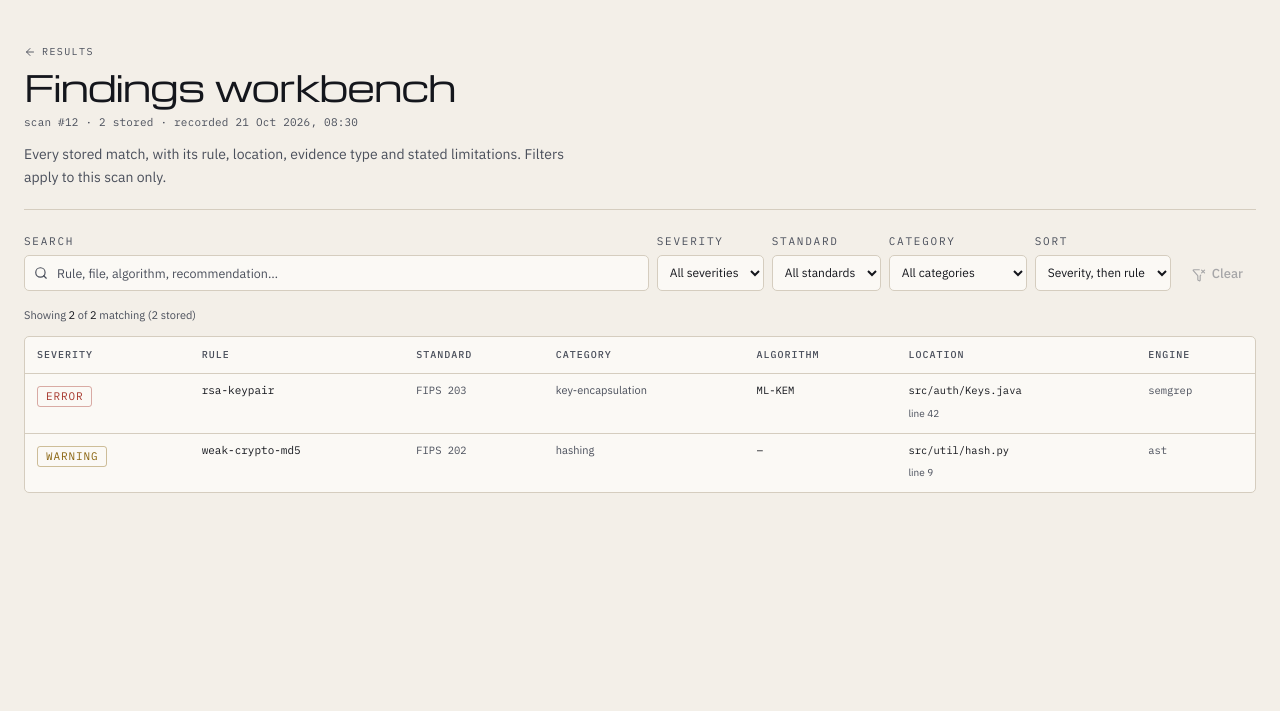
FindingsPage › opens a finding with evidence, recommendation and limitations as text
This screenshot has width=1280, height=711.
Click the text "rsa-keypair" at (238, 390), box left=202, top=383, right=274, bottom=397
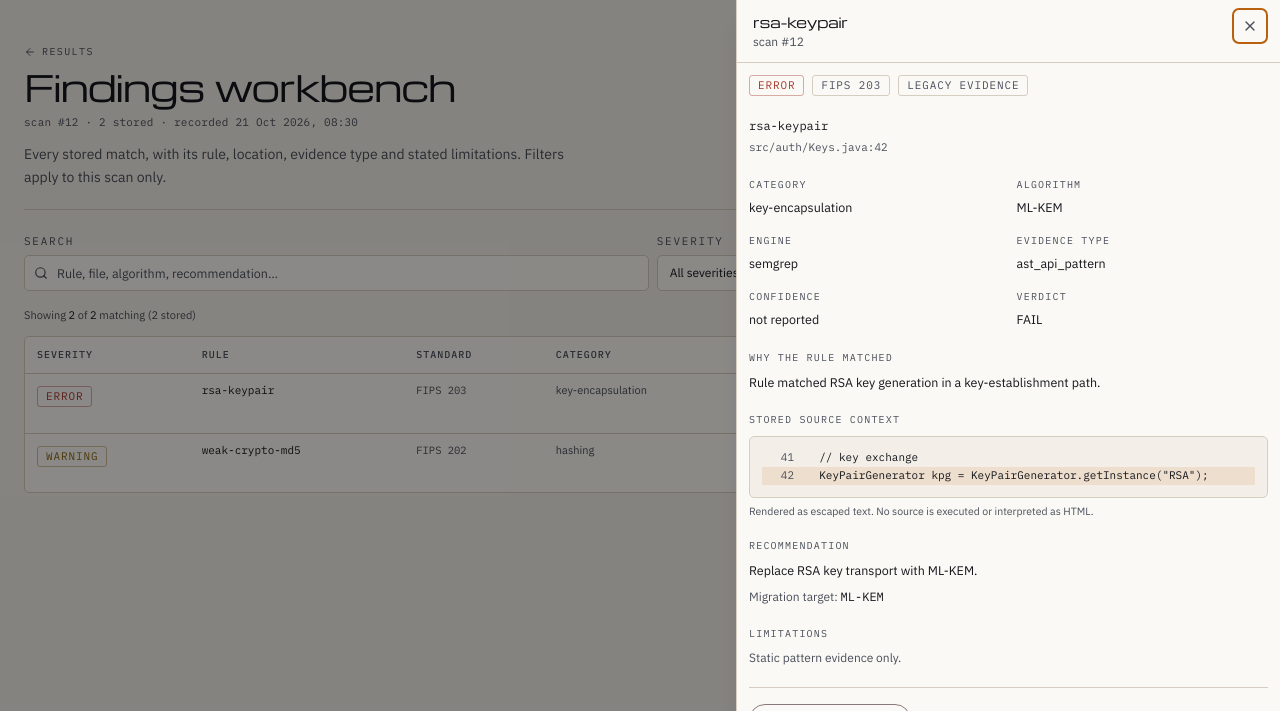
Check: the text "Why the rule matched" is shown, box left=749, top=351, right=893, bottom=364
Check: the text "Rule matched RSA key generation in a key-establishment path." is shown, box left=749, top=374, right=1100, bottom=390
Check: the text "KeyPairGenerator kpg" is shown, box left=806, top=468, right=1209, bottom=482
